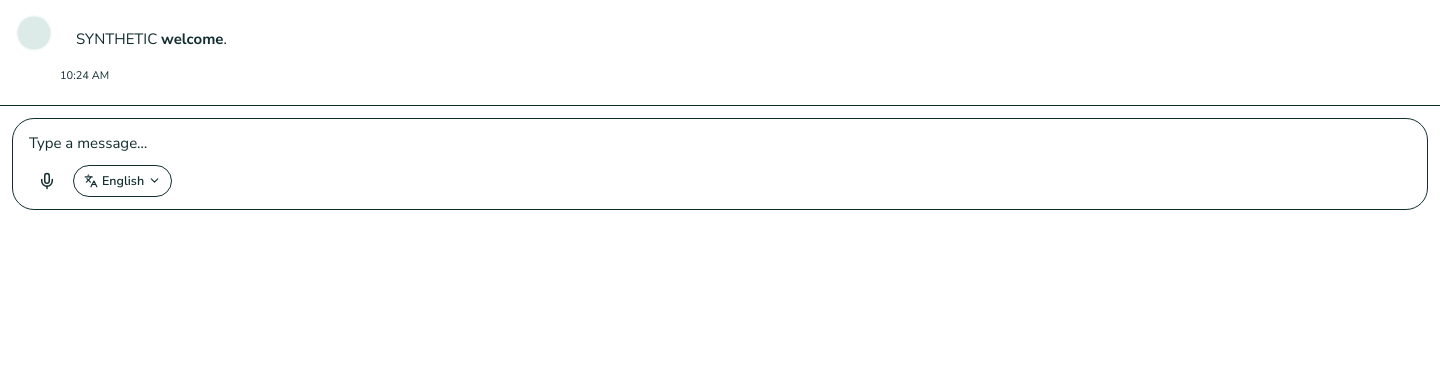
Scenario: ChatPanel › Enter sends and clears; the message and the streamed reply appear
This screenshot has width=1440, height=377.
Type "SYNTHETIC question" into the text box named "Message your tutor". click: {"x": 720, "y": 143}
box: x1=29 y1=131 x2=1411 y2=155
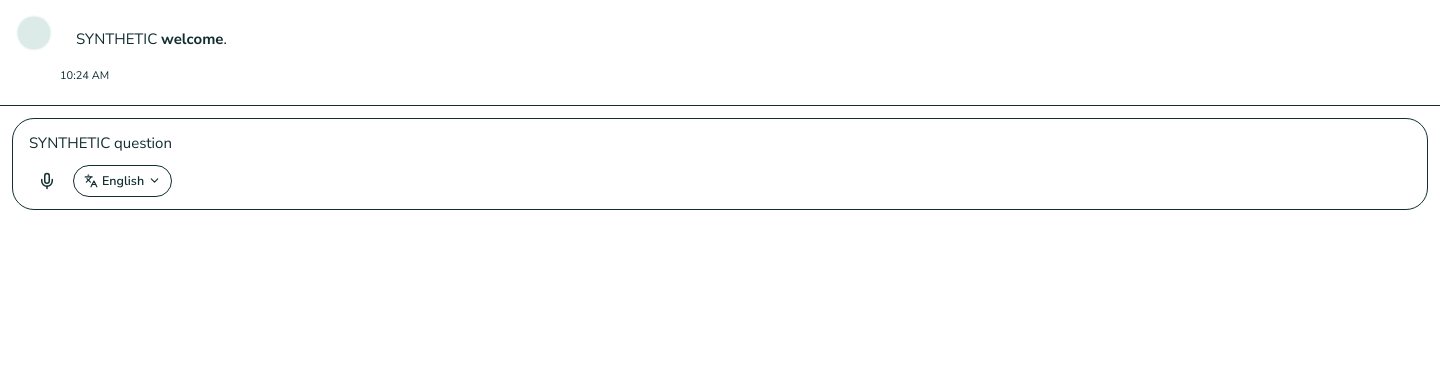
Press Enter in the text box named "Message your tutor", box x1=29 y1=131 x2=1411 y2=155
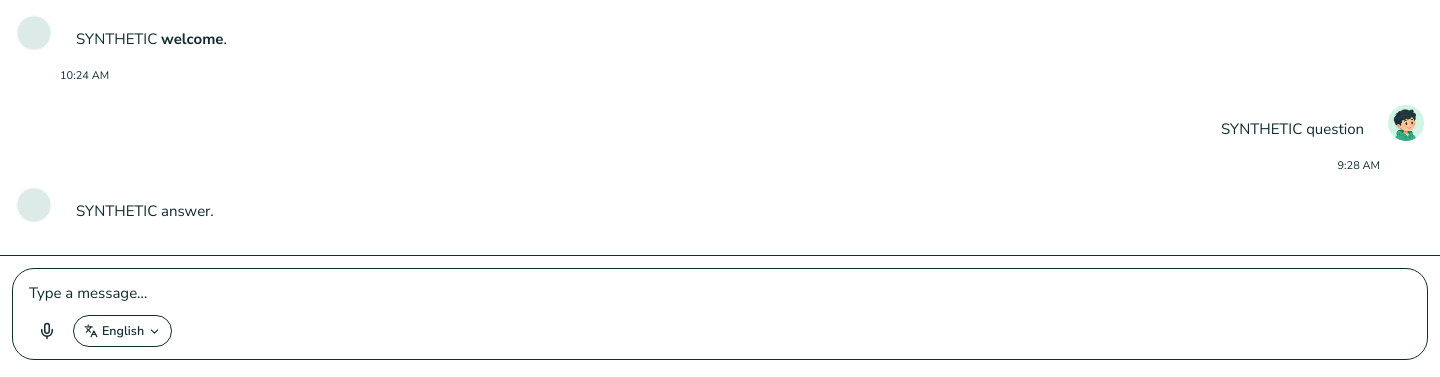
Now the text box named "Message your tutor" is empty, box x1=29 y1=281 x2=1411 y2=305
Now the text "SYNTHETIC answer." is shown, box x1=76 y1=199 x2=214 y2=223
Now the text "SYNTHETIC question" is shown, box x1=1221 y1=119 x2=1364 y2=139
